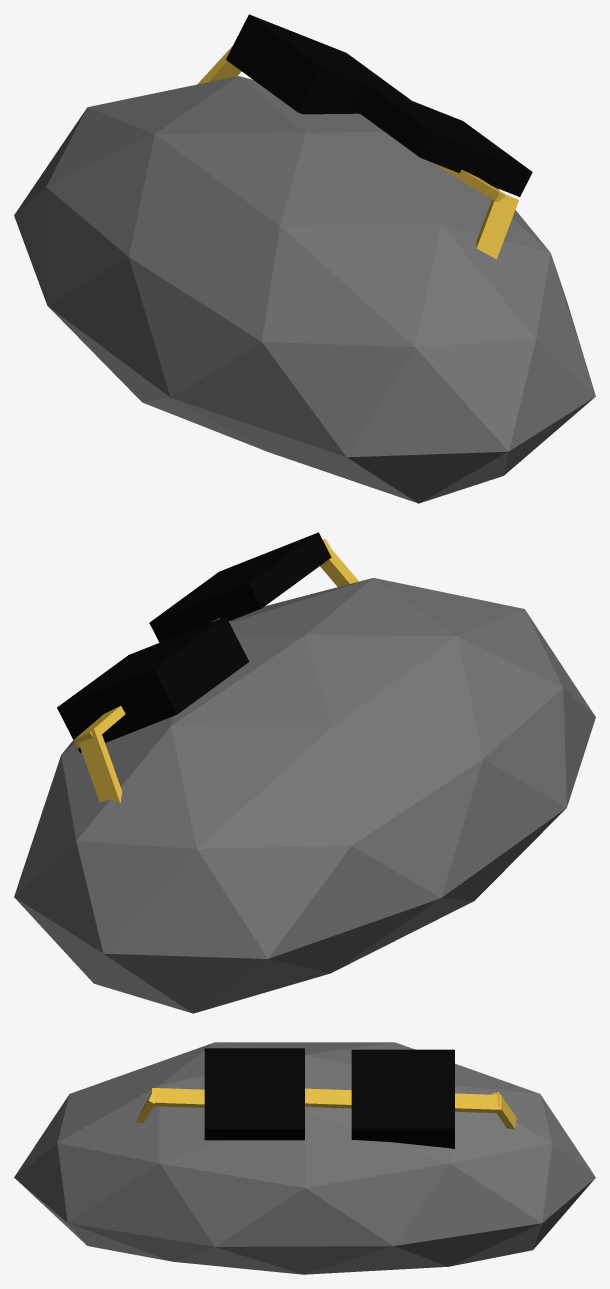
File: rock.fbx
3 views of the same model, one above another, from view 1: azimuth 30°, elevation 25°; view 2: azimuth 150°, elevation 25°; view 3: azimuth 270°, elevation 25° (orthographic). The views are drawn at different scales.
Parts seen in each view (by area): view 1: Icosphere, Cube.001, Cube, Cube.007, Cube.003; view 2: Icosphere, Cube.001, Cube, Cube.006, Cube.007, Cube.005; view 3: Icosphere, Cube.001, Cube, Cube.003, Cube.002, Cube.005, Cube.006.
Boxes of the visible parts, <box> form: Icosphere: <box>14,76,595,503</box>; Cube.001: <box>226,14,411,114</box>; Cube: <box>350,81,532,196</box>; Cube.007: <box>476,191,518,259</box>; Cube.003: <box>432,162,505,202</box>; Icosphere: <box>14,578,595,1013</box>; Cube.001: <box>57,616,249,752</box>; Cube: <box>149,532,331,642</box>; Cube.006: <box>76,728,122,803</box>; Cube.007: <box>320,539,358,586</box>; Cube.005: <box>73,706,125,748</box>; Icosphere: <box>14,1042,595,1274</box>; Cube.001: <box>351,1049,454,1148</box>; Cube: <box>204,1048,304,1140</box>; Cube.003: <box>151,1088,204,1107</box>; Cube.002: <box>305,1088,351,1108</box>; Cube.005: <box>455,1093,501,1113</box>; Cube.006: <box>492,1092,516,1129</box>.
Size of the model in its own units: 273 by 188 by 484.
